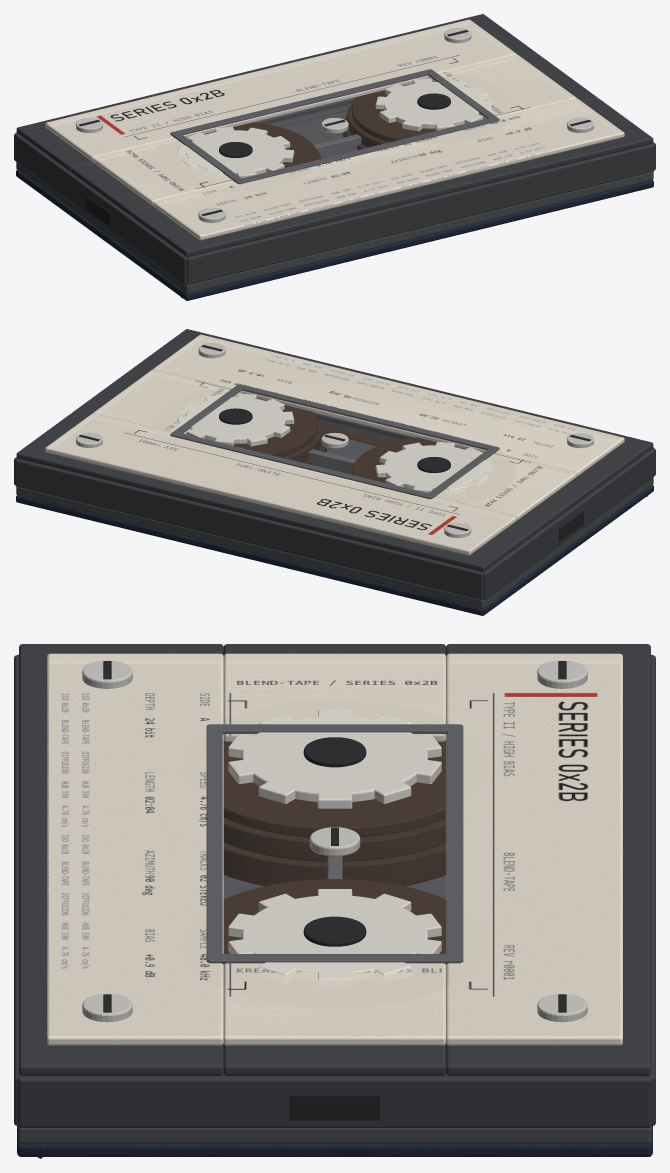
Rendered from tape.glb.
3 renders of one model, top to bottom at view 1: azimuth 30°, elevation 25°; view 2: azimuth 150°, elevation 25°; view 3: azimuth 270°, elevation 25°, orthographic. The views are drawn at different scales.
Visible parts, largest first — view 1: label, frame, wall_nY, window, body_floor, back_shell, wall_nX, wframe, hub_r, hub_l, spool_r_3, spool_l_3 (+4 smaller); view 2: label, frame, wall_pY, window, body_floor, back_shell, wall_nX, wframe, hub_r, hub_l, spool_r_3, spool_l_3 (+5 smaller); view 3: label, frame, wall_pX, window, hub_l, wframe, hub_r, body_floor, back_shell, spool_l_3, spool_l_1, spool_l_2 (+11 smaller).
Part boxes in pixels (x1,y1,x2,y2): label: [45, 19, 624, 240]; frame: [16, 14, 653, 256]; wall_nY: [186, 144, 654, 284]; window: [185, 77, 484, 177]; body_floor: [16, 110, 653, 293]; back_shell: [16, 170, 653, 300]; wall_nX: [14, 133, 186, 284]; wframe: [170, 69, 499, 184]; hub_r: [375, 78, 492, 131]; hub_l: [177, 126, 294, 178]; spool_r_3: [352, 83, 515, 142]; spool_l_3: [199, 122, 317, 187]; label: [45, 334, 624, 555]; frame: [16, 329, 653, 571]; wall_pY: [15, 459, 483, 599]; window: [185, 392, 484, 492]; body_floor: [16, 432, 653, 608]; back_shell: [16, 485, 653, 615]; wall_nX: [483, 448, 655, 599]; wframe: [170, 384, 499, 499]; hub_r: [177, 393, 294, 446]; hub_l: [375, 441, 492, 493]; spool_r_3: [233, 398, 317, 457]; spool_l_3: [352, 437, 513, 482]; label: [47, 653, 622, 1045]; frame: [19, 644, 650, 1075]; wall_pX: [18, 1073, 651, 1127]; window: [224, 735, 445, 953]; hub_l: [228, 709, 441, 808]; wframe: [206, 724, 463, 964]; hub_r: [228, 889, 441, 979]; body_floor: [18, 875, 651, 1143]; back_shell: [17, 1126, 652, 1156]; spool_l_3: [223, 739, 446, 837]; spool_l_1: [223, 843, 446, 886]; spool_l_2: [223, 818, 446, 861].
Bounding box in the file's own units: 0.1004 × 0.0122 × 0.0635.
11 materials, 2 textured.
